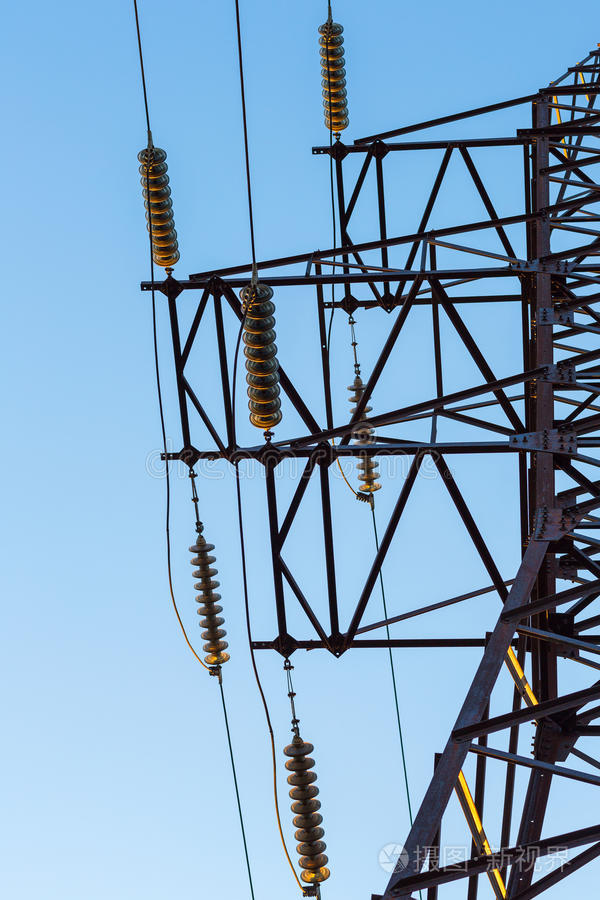insulator: (284, 737, 332, 883), (239, 283, 280, 429), (135, 146, 180, 268), (186, 541, 229, 666), (315, 19, 350, 133), (351, 382, 383, 496)
